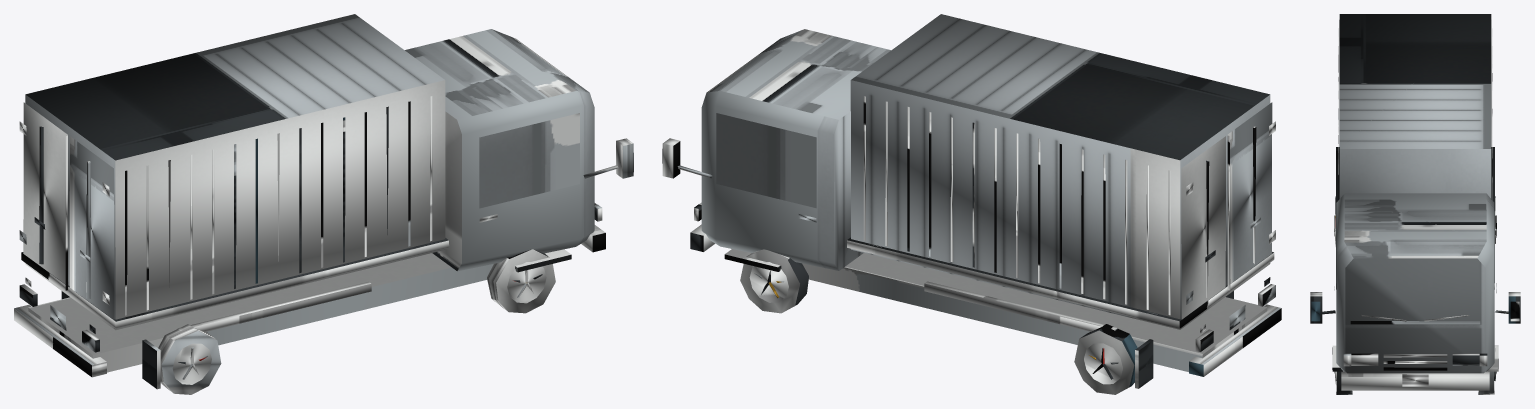
The model's file is delivery_truck.lod1.obj.
3 views of the same model, side by side, from view 1: azimuth 30°, elevation 25°; view 2: azimuth 150°, elevation 25°; view 3: azimuth 270°, elevation 25° (orthographic). The views are drawn at different scales.
Visible parts, largest first — view 1: delivery_truck; view 2: delivery_truck; view 3: delivery_truck.
Boxes of the visible parts, x1,y1,x2,y2 form: delivery_truck: [14, 14, 633, 394]; delivery_truck: [662, 14, 1281, 394]; delivery_truck: [1310, 14, 1520, 394].
Bounding box in the file's own units: 6.2 × 2.87 × 2.6.
Materials: 1 (1 with a texture image).
